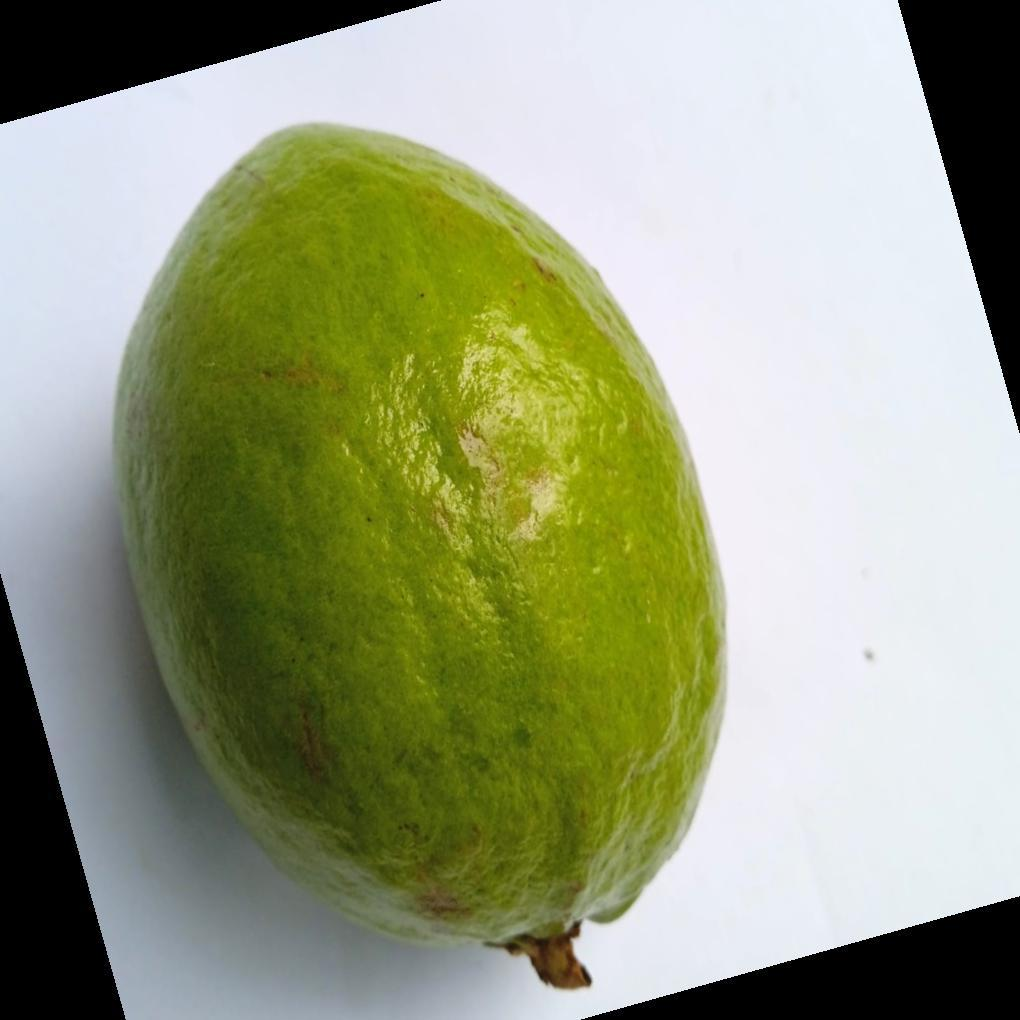FreshGuava: (111, 123, 730, 984)
